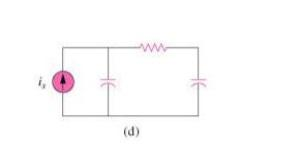resistor: (129, 30, 169, 61)
